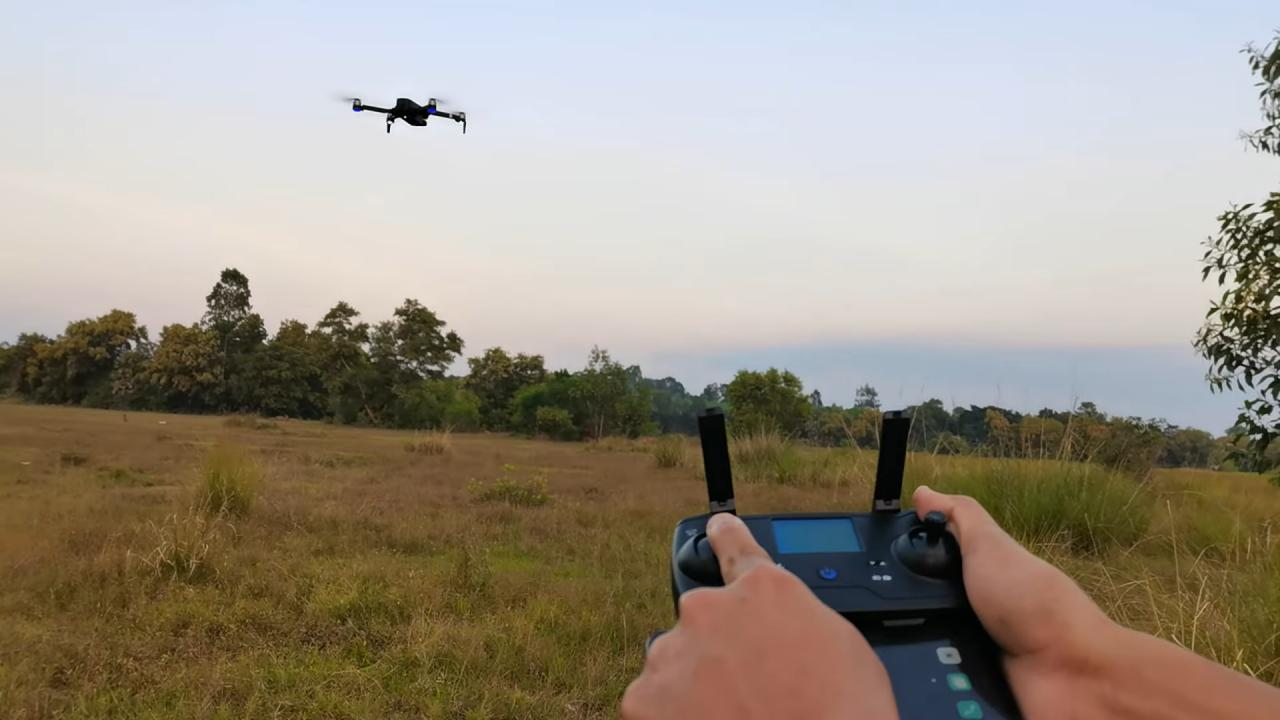Drone: (331, 84, 477, 141)
